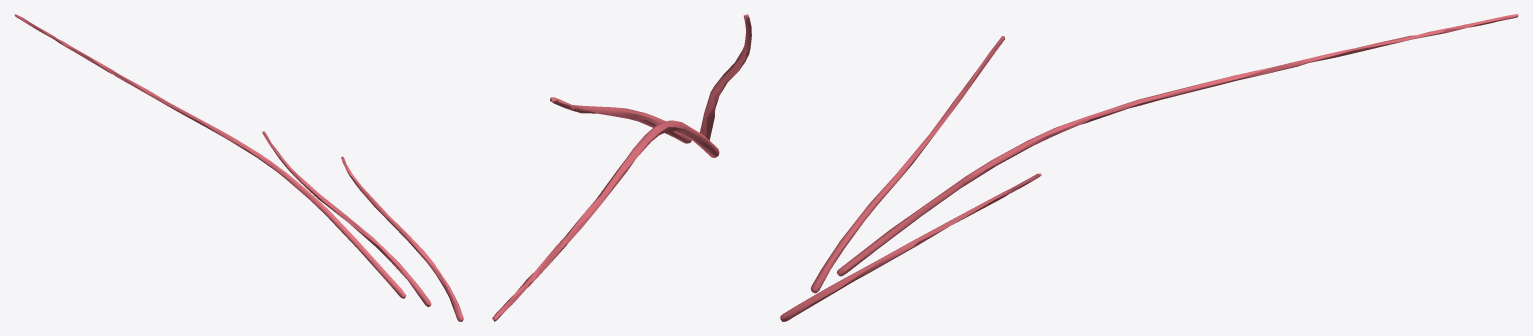
The model's file is fma50377_fj5026.glb.
3 views of the same model, side by side, from view 1: azimuth 30°, elevation 25°; view 2: azimuth 150°, elevation 25°; view 3: azimuth 270°, elevation 25° (orthographic). The views are drawn at different scales.
Visible parts, largest first — view 1: FMA50377_FJ5026; view 2: FMA50377_FJ5026; view 3: FMA50377_FJ5026.
Boxes of the visible parts, box(x1,y1,x2,y2) form: FMA50377_FJ5026: box(14, 14, 463, 321); FMA50377_FJ5026: box(492, 14, 751, 321); FMA50377_FJ5026: box(780, 14, 1518, 321).
Bounding box in the file's own units: 0.0118 × 0.0102 × 0.0322.
